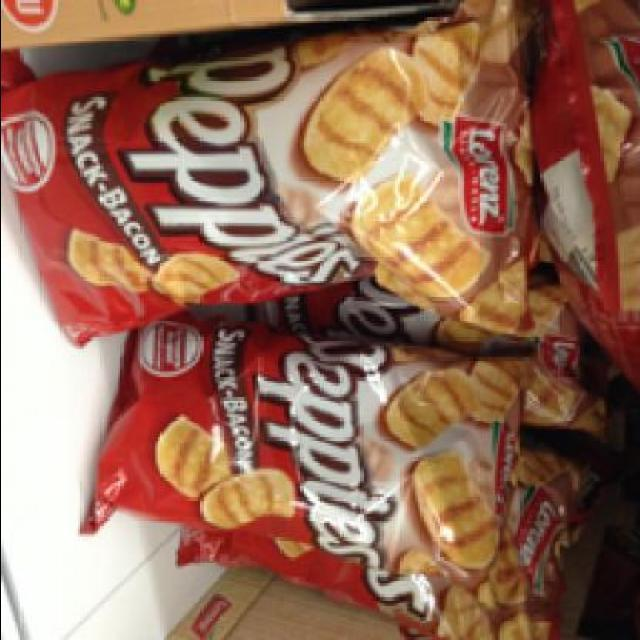Chips: (3, 6, 531, 340), (83, 326, 534, 637)
